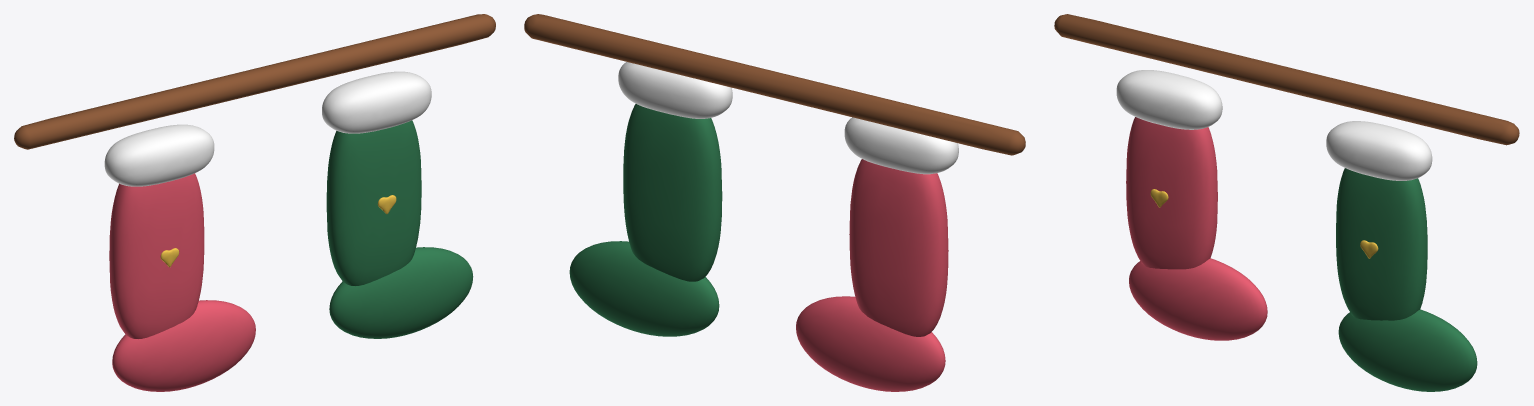
File: deco_medias.glb
3 views of the same model, side by side, from view 1: azimuth 30°, elevation 25°; view 2: azimuth 150°, elevation 25°; view 3: azimuth 330°, elevation 25° (orthographic). The views are drawn at different scales.
Visible parts, largest first — view 1: caña media 0.001, caña media 1.001, repisa medias.001, pie media 1.001, pie media 0.001, borde media 0.001, borde media 1.001; view 2: caña media 0.001, caña media 1.001, repisa medias.001, pie media 1.001, pie media 0.001, borde media 1.001, borde media 0.001; view 3: caña media 1.001, caña media 0.001, repisa medias.001, pie media 0.001, pie media 1.001, borde media 1.001, borde media 0.001.
Part boxes in pixels (left/top/right/bottom): caña media 0.001: left=109, top=173, right=204, bottom=338; caña media 1.001: left=326, top=120, right=421, bottom=285; repisa medias.001: left=14, top=14, right=495, bottom=149; pie media 1.001: left=329, top=247, right=473, bottom=338; pie media 0.001: left=112, top=300, right=255, bottom=391; borde media 0.001: left=104, top=124, right=214, bottom=186; borde media 1.001: left=322, top=71, right=431, bottom=133; caña media 0.001: left=849, top=159, right=948, bottom=336; caña media 1.001: left=623, top=104, right=722, bottom=281; repisa medias.001: left=524, top=14, right=1025, bottom=155; pie media 1.001: left=569, top=241, right=719, bottom=336; pie media 0.001: left=796, top=296, right=945, bottom=391; borde media 1.001: left=618, top=62, right=732, bottom=118; borde media 0.001: left=844, top=117, right=958, bottom=174; caña media 1.001: left=1336, top=168, right=1427, bottom=320; caña media 0.001: left=1126, top=117, right=1217, bottom=269; repisa medias.001: left=1054, top=14, right=1519, bottom=145; pie media 0.001: left=1129, top=258, right=1267, bottom=340; pie media 1.001: left=1338, top=309, right=1477, bottom=391; borde media 1.001: left=1326, top=121, right=1432, bottom=180; borde media 0.001: left=1116, top=70, right=1222, bottom=129.
Size of the model in its own units: 0.5294 by 0.3066 by 0.063.
